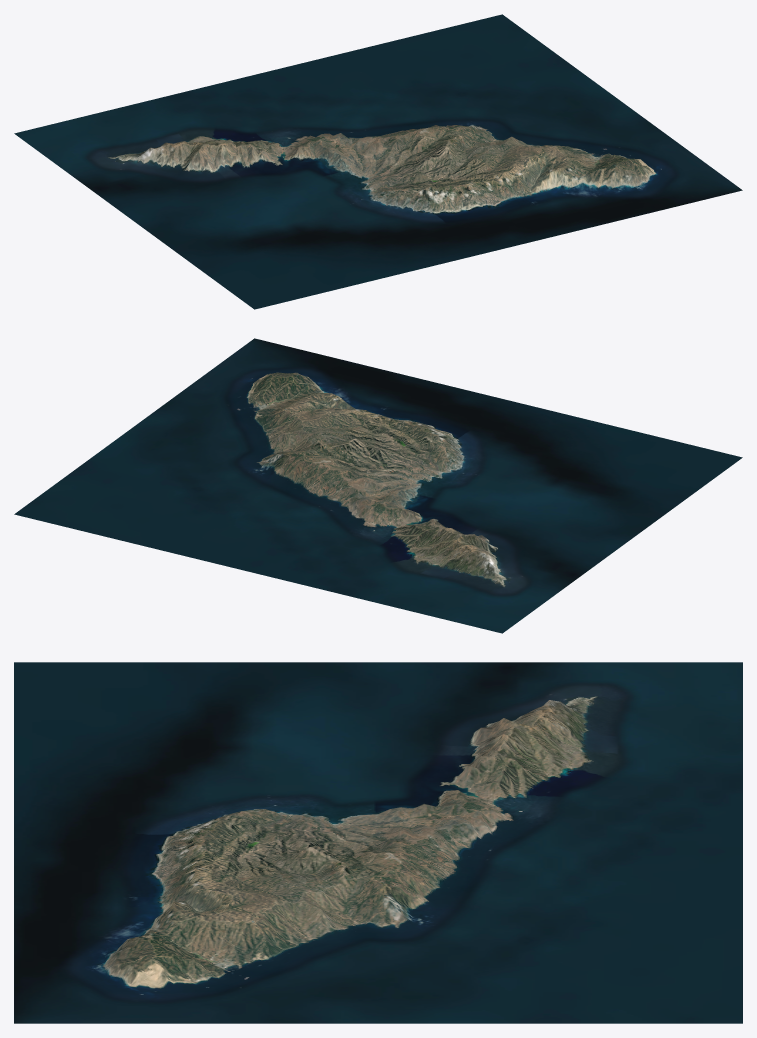
The model's file is island-2.glb.
3 views of the same model, one above another, from view 1: azimuth 30°, elevation 25°; view 2: azimuth 150°, elevation 25°; view 3: azimuth 270°, elevation 25° (orthographic). The views are drawn at different scales.
Visible parts, largest first — view 1: skfb_offset; view 2: skfb_offset; view 3: skfb_offset.
Boxes of the visible parts, x1,y1,x2,y2 form: skfb_offset: [14, 14, 742, 309]; skfb_offset: [14, 338, 742, 633]; skfb_offset: [14, 662, 742, 1023].
Size of the model in its own units: 41582 by 1611 by 35467.
Materials: 1 (1 with a texture image).
